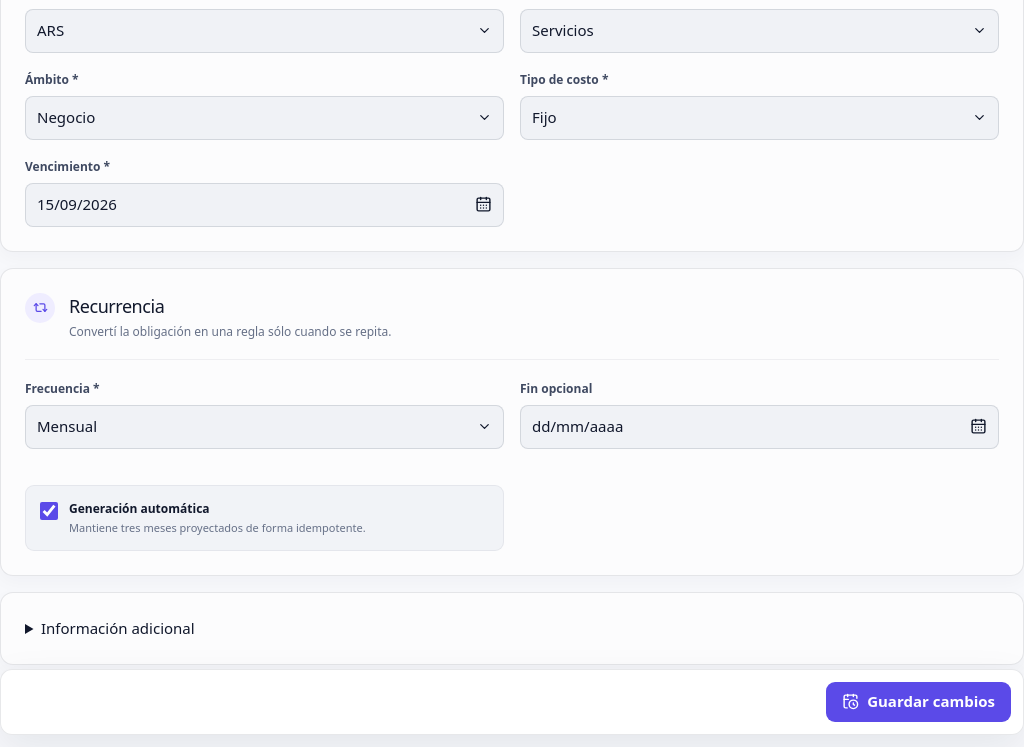
Test: ExpenseForm › preserves an optional payment method when editing an unpaid recurrence
(page scrolled)
Click the heading "Información adicional".
click(118, 628)  # box [41, 618, 195, 638]
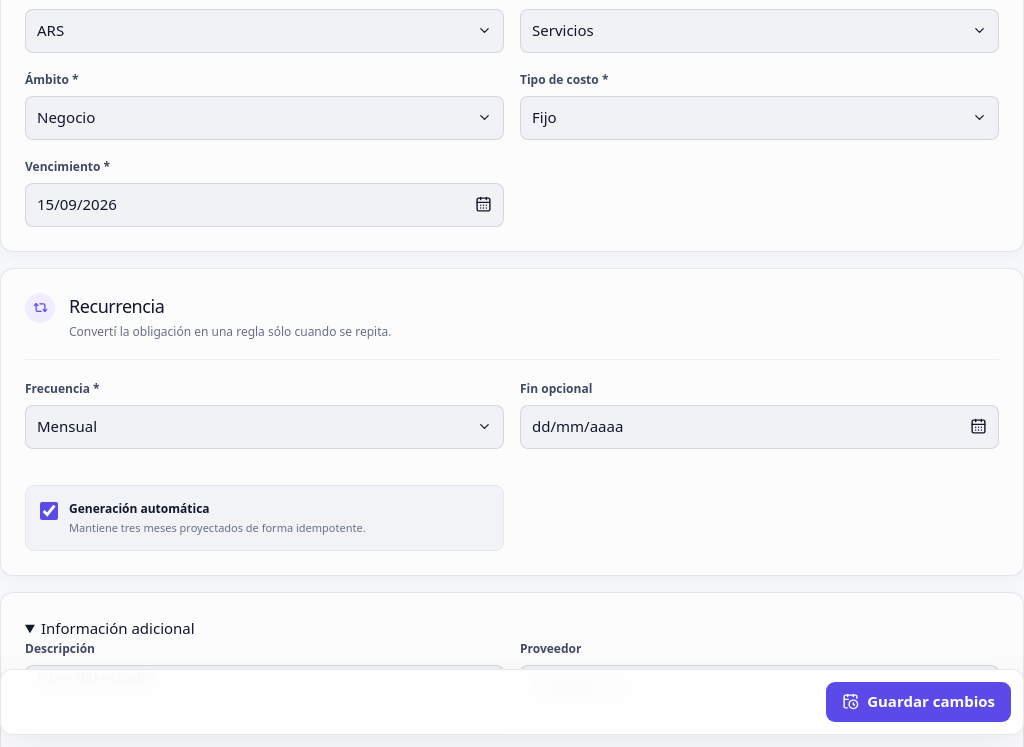
Click the button "Guardar cambios".
click(919, 702)  # box [826, 682, 1011, 722]
(page scrolled)
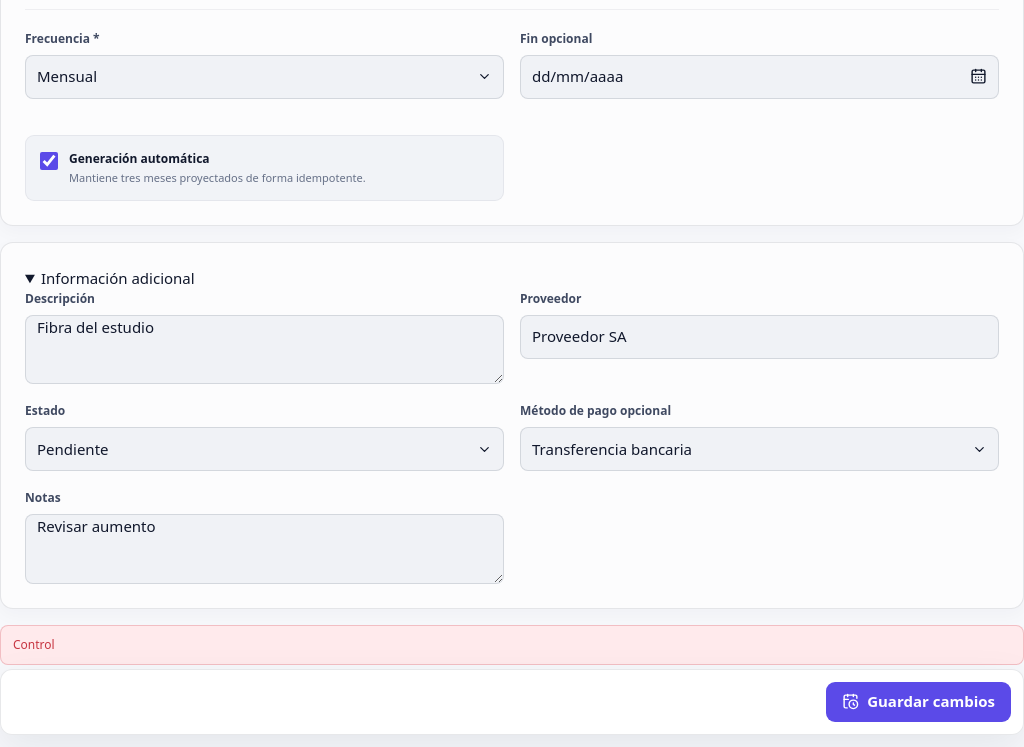
Expected: the message "Control" is shown, [0, 624, 1023, 664]
